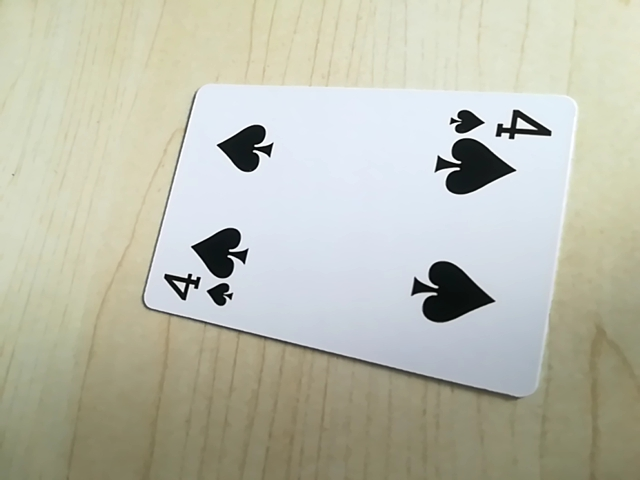ht 4: (442, 99, 555, 141), (155, 269, 243, 314)
